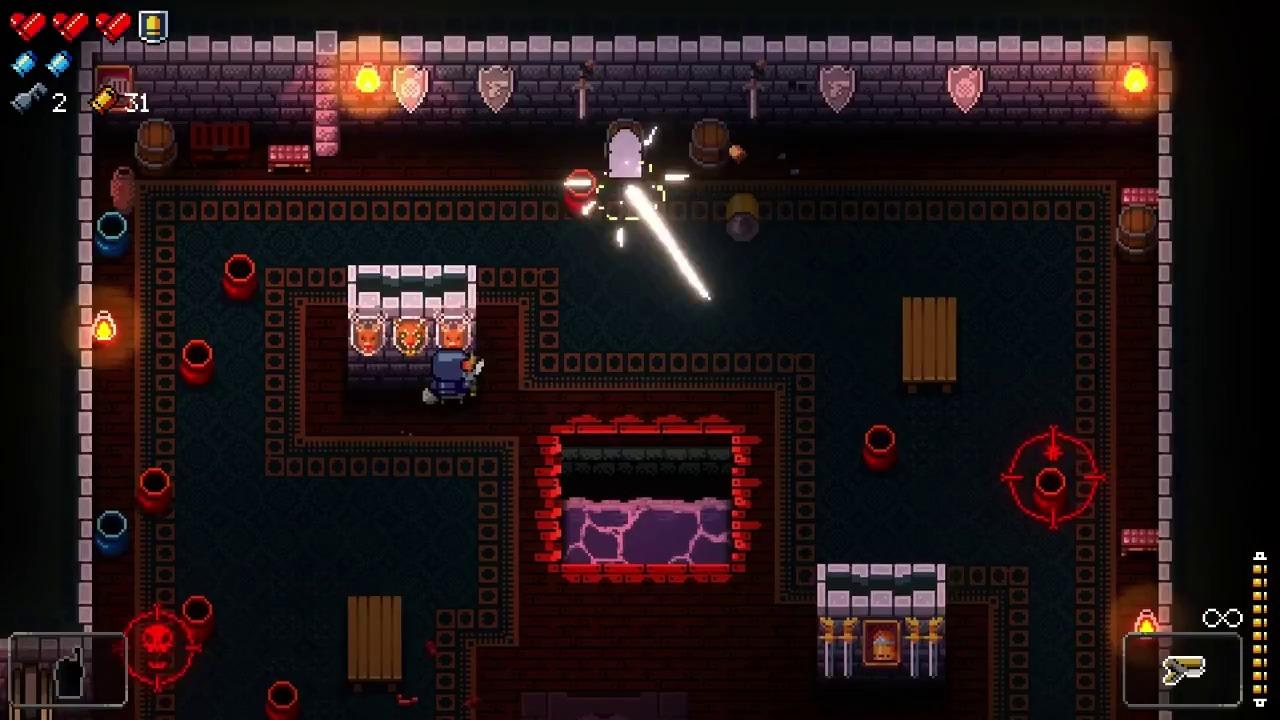dead_bullet_kin: (726, 194, 759, 242)
enemy_spawn: (998, 423, 1105, 530), (113, 603, 203, 691)
player: (431, 350, 474, 408)
table: (902, 296, 957, 394), (346, 596, 401, 691)
water_pit: (532, 413, 762, 585)
